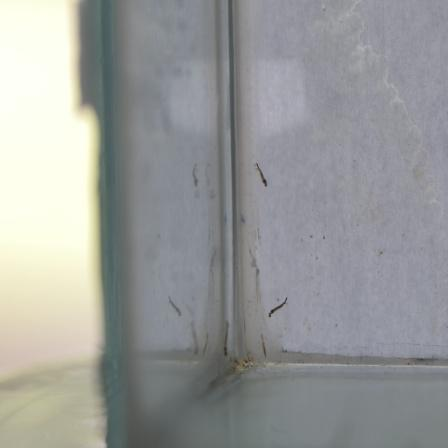Jentik-Nyamuk: (263, 292, 291, 322), (252, 158, 272, 192), (218, 316, 233, 359)
